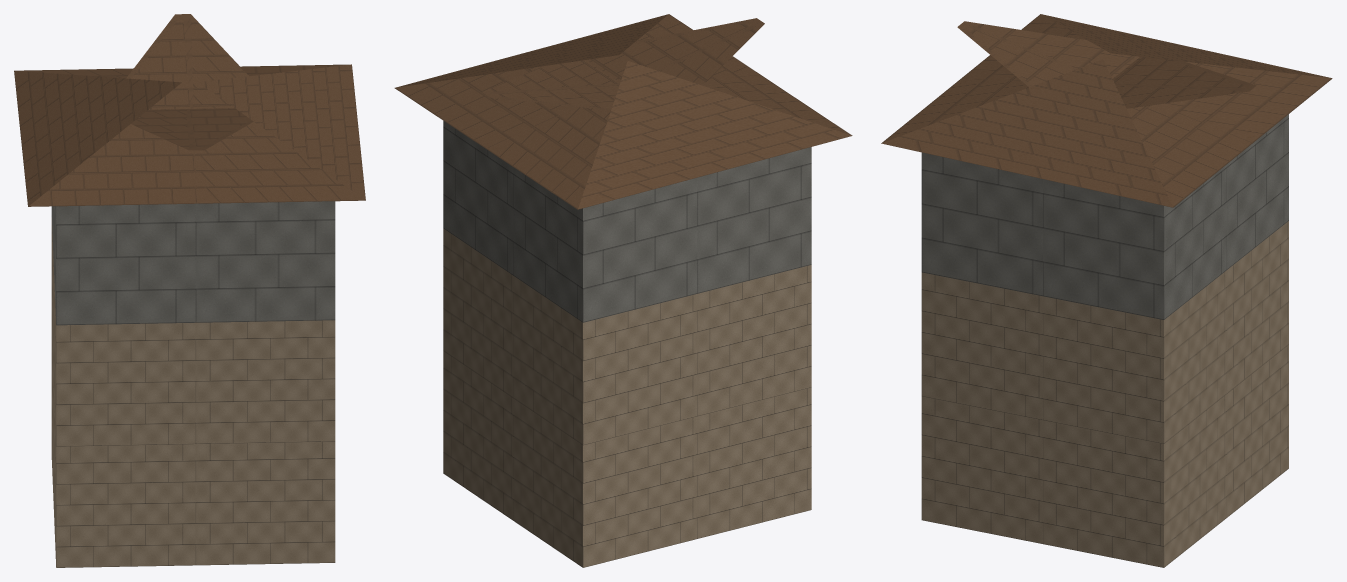
Rendered from bld_c22_-49_536.gltf.
3 renders of one model, left to right at view 1: azimuth 30°, elevation 25°; view 2: azimuth 150°, elevation 25°; view 3: azimuth 270°, elevation 25°, orthographic. The views are drawn at different scales.
Visible parts, largest first — view 1: bld_c22_-49_536; view 2: bld_c22_-49_536; view 3: bld_c22_-49_536.
Boxes of the visible parts, bbox=[...] form: bld_c22_-49_536: bbox=[14, 14, 365, 567]; bld_c22_-49_536: bbox=[394, 14, 852, 567]; bld_c22_-49_536: bbox=[881, 14, 1332, 567].
Size of the model in its own units: 7.61 by 8 by 7.5.
3 materials, 3 textured.
